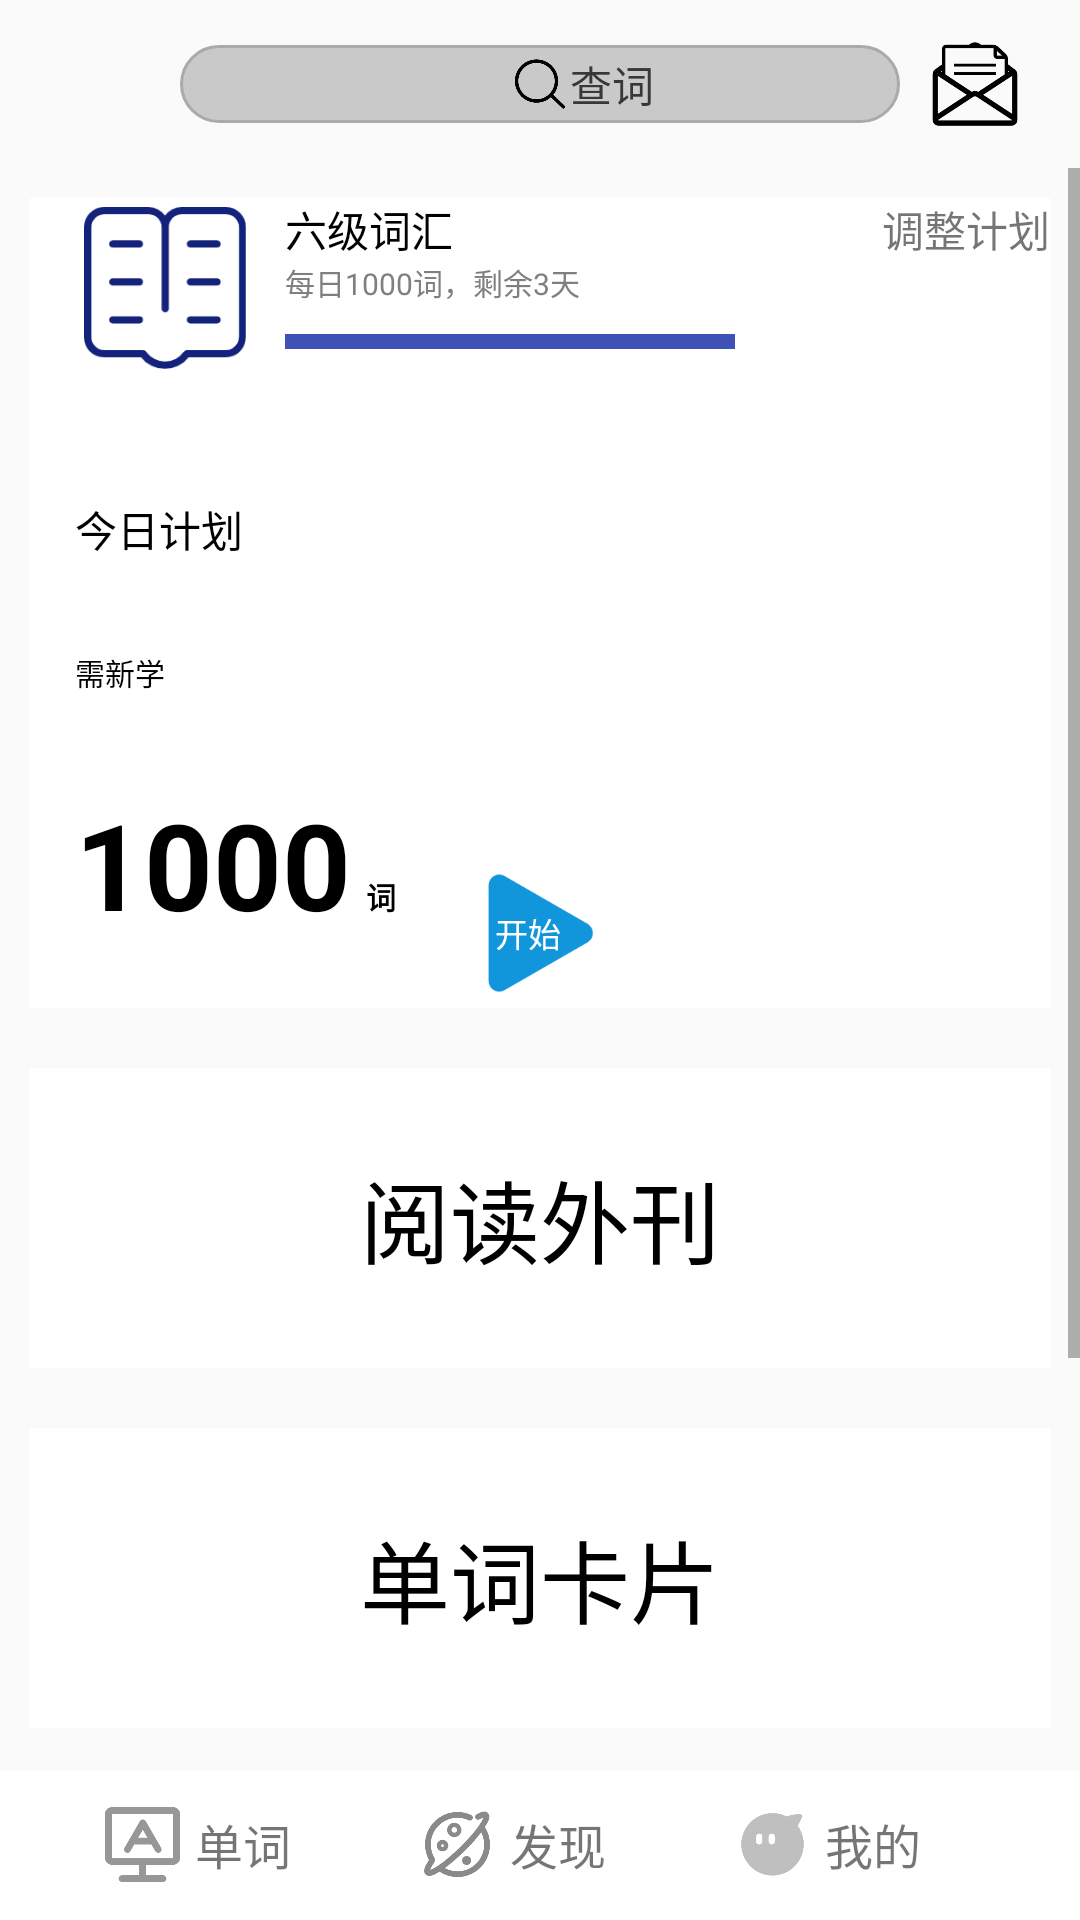

Where to tap for icons on this 1080x1920 app screen, as [x,y]:
book: [165,288]
research: [540,84]
